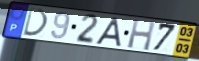2: (75, 13, 99, 46)
7: (151, 22, 179, 52)
9: (49, 11, 71, 41)
A: (94, 17, 123, 49)
D: (22, 7, 50, 38)
H: (126, 19, 157, 53)
